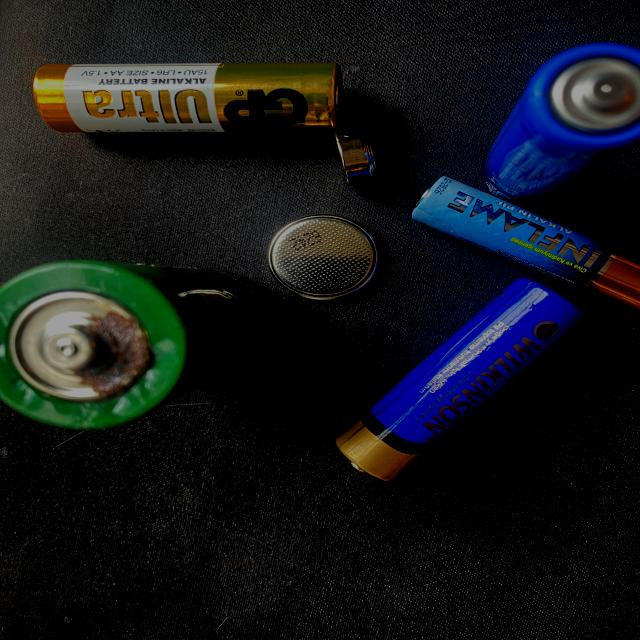AA: (32, 42, 340, 136)
COIN: (247, 212, 393, 312)
